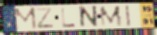I: (124, 5, 132, 28)
L: (60, 7, 77, 29)
M: (13, 7, 38, 31), (99, 5, 124, 28)
N: (80, 5, 100, 30)
Z: (35, 7, 56, 29)
